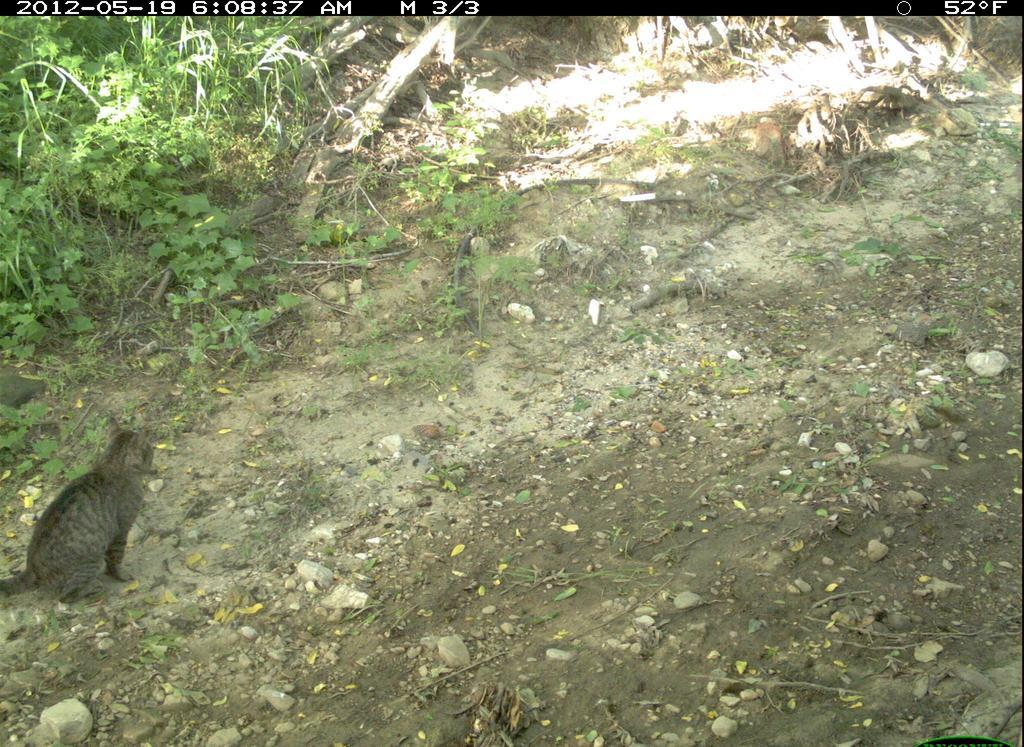cat: (9, 413, 162, 615)
